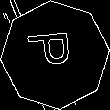P_E: (28, 34, 82, 76)
